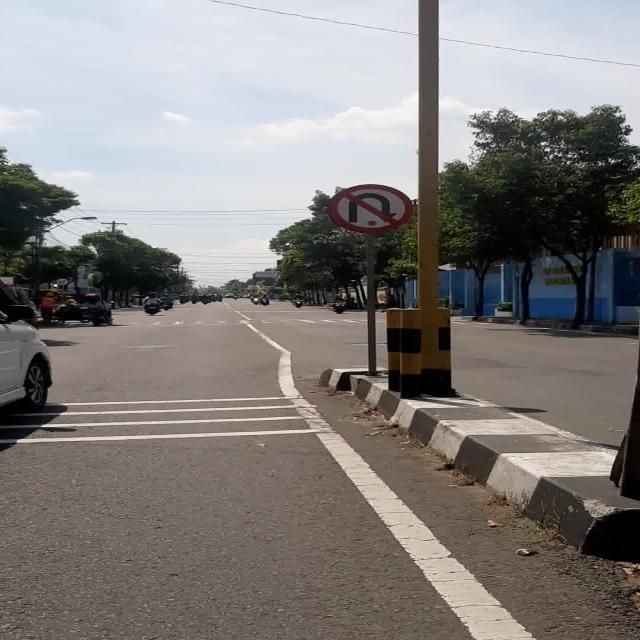Dilarang Putar Balik: (328, 183, 414, 232)
